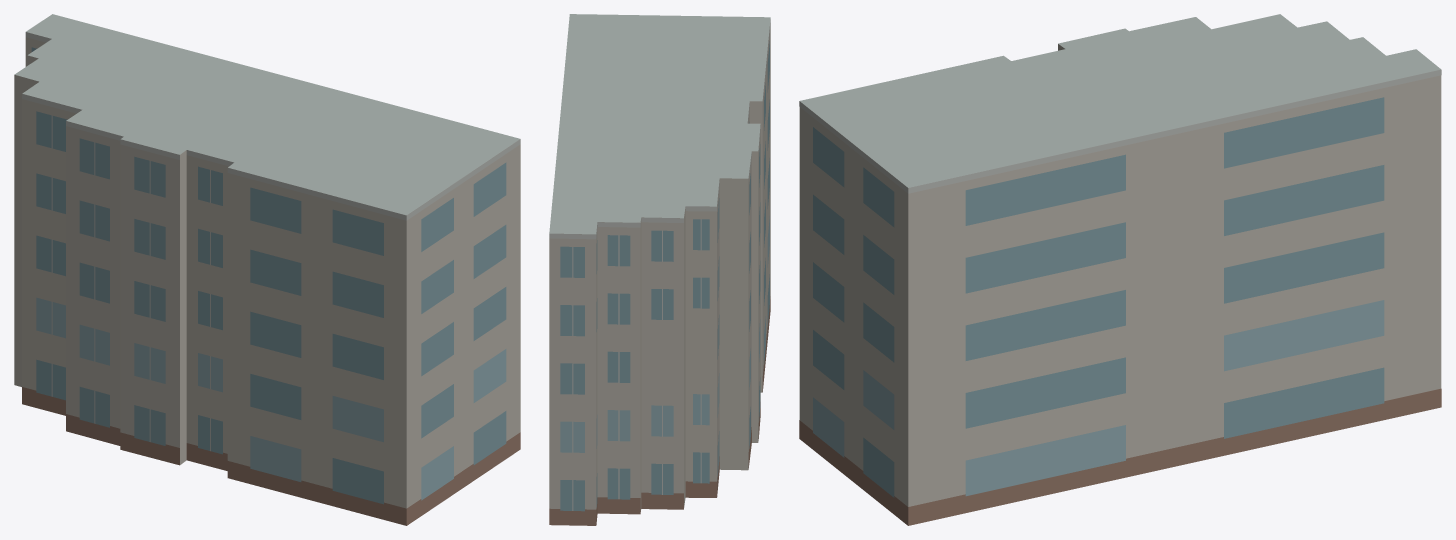
The model's file is survey-upis-32939092.glb.
3 renders of one model, left to right at view 1: azimuth 30°, elevation 25°; view 2: azimuth 150°, elevation 25°; view 3: azimuth 270°, elevation 25°, orthographic. The views are drawn at different scales.
Parts seen in each view (by area): view 1: survey-upis-32939092.tmp; view 2: survey-upis-32939092.tmp; view 3: survey-upis-32939092.tmp.
Part boxes in pixels (box(x1,y1,x2,y2)): survey-upis-32939092.tmp: box(14, 14, 520, 525); survey-upis-32939092.tmp: box(549, 14, 770, 525); survey-upis-32939092.tmp: box(799, 14, 1441, 525).
Bounding box in the file's own units: 15.91 × 14.4 × 24.81.
